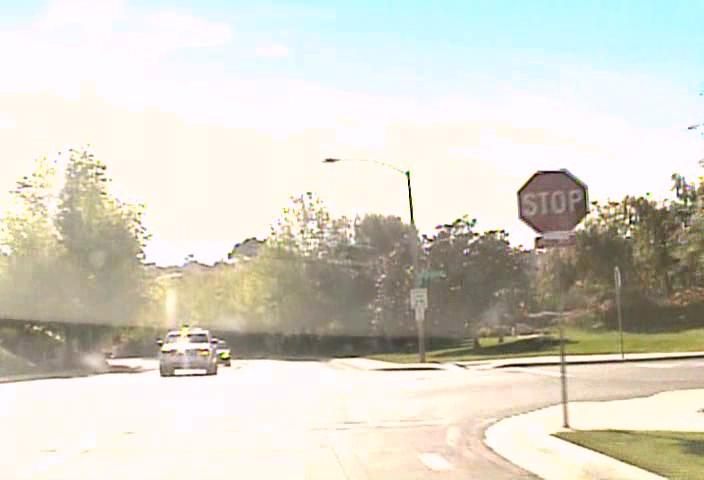stop: (516, 169, 589, 235)
